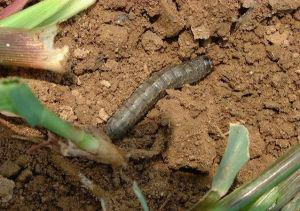caterpillars: (96, 40, 218, 147)
